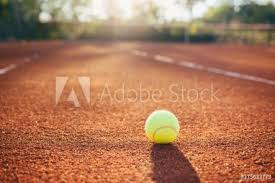tennis_ball: (145, 109, 180, 145)
